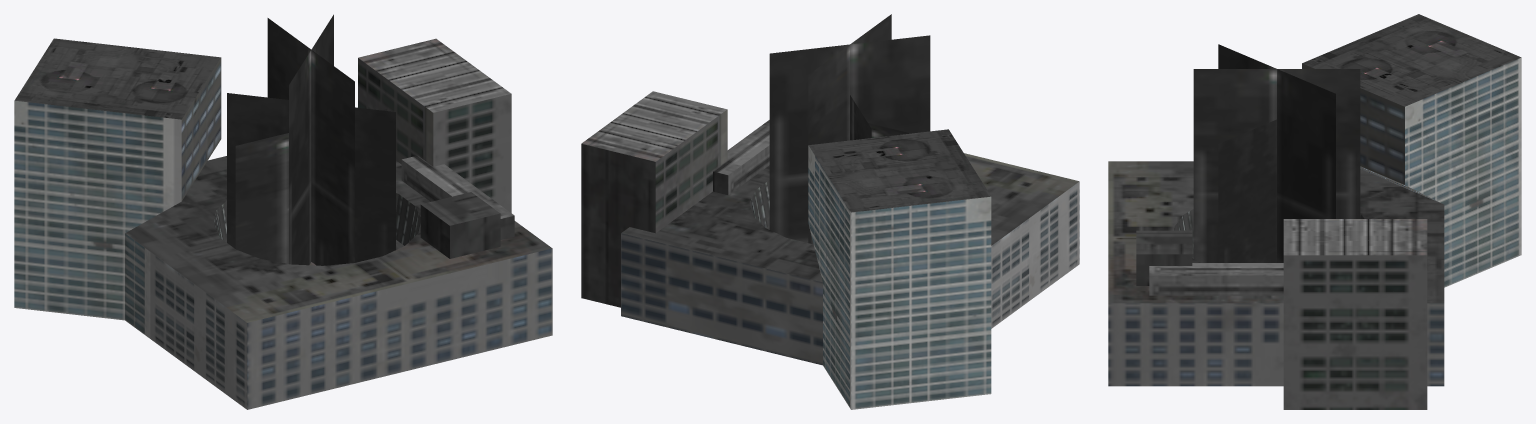
Rendered from scifi_building_54.obj.
3 views of the same model, side by side, from view 1: azimuth 30°, elevation 25°; view 2: azimuth 150°, elevation 25°; view 3: azimuth 270°, elevation 25° (orthographic). The views are drawn at different scales.
Visible parts, largest first — view 1: building_54; view 2: building_54; view 3: building_54.
Boxes of the visible parts, x1=… form: building_54: x1=14, y1=14, x2=552, y2=409; building_54: x1=581, y1=14, x2=1079, y2=409; building_54: x1=1108, y1=14, x2=1521, y2=409.
Bounding box in the file's own units: 156 × 90.44 × 138.
Materials: 1 (1 with a texture image).
